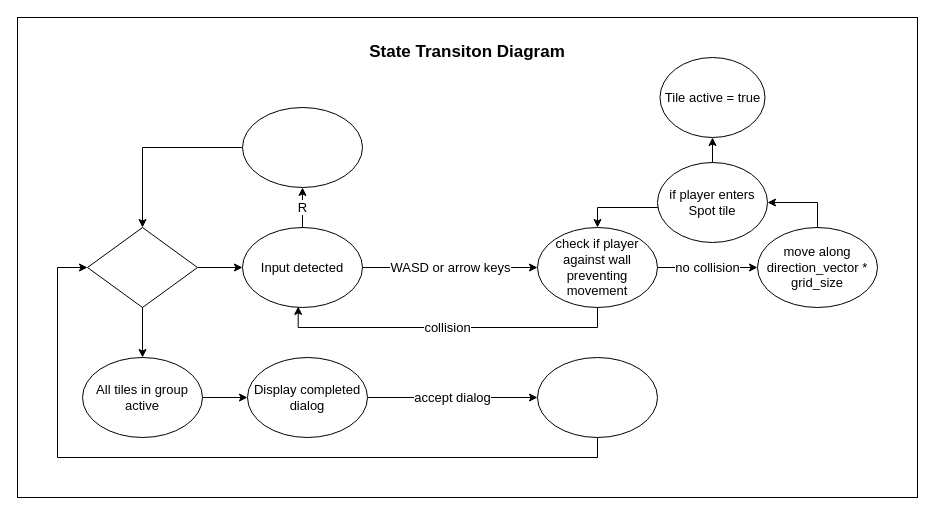
The diagram is 935 pixels wide and 515 high, and some of its shapes have lost their labels. The shapes that lost their labels are listed below. From the top down, each one's centre as x and y in pixels, then its label:
At point 302,147: "reload scene/level".
At point 142,267: "Level Loaded".
At point 597,397: "load next level".
